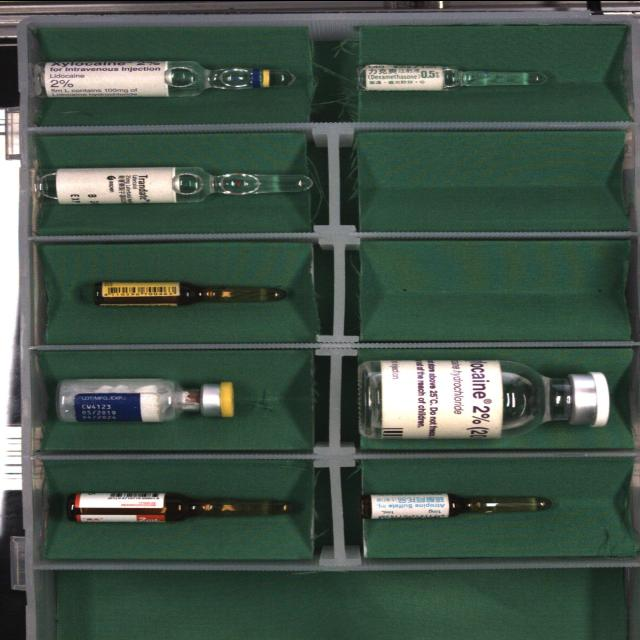Vials: (359, 359, 610, 438), (57, 377, 234, 421)
